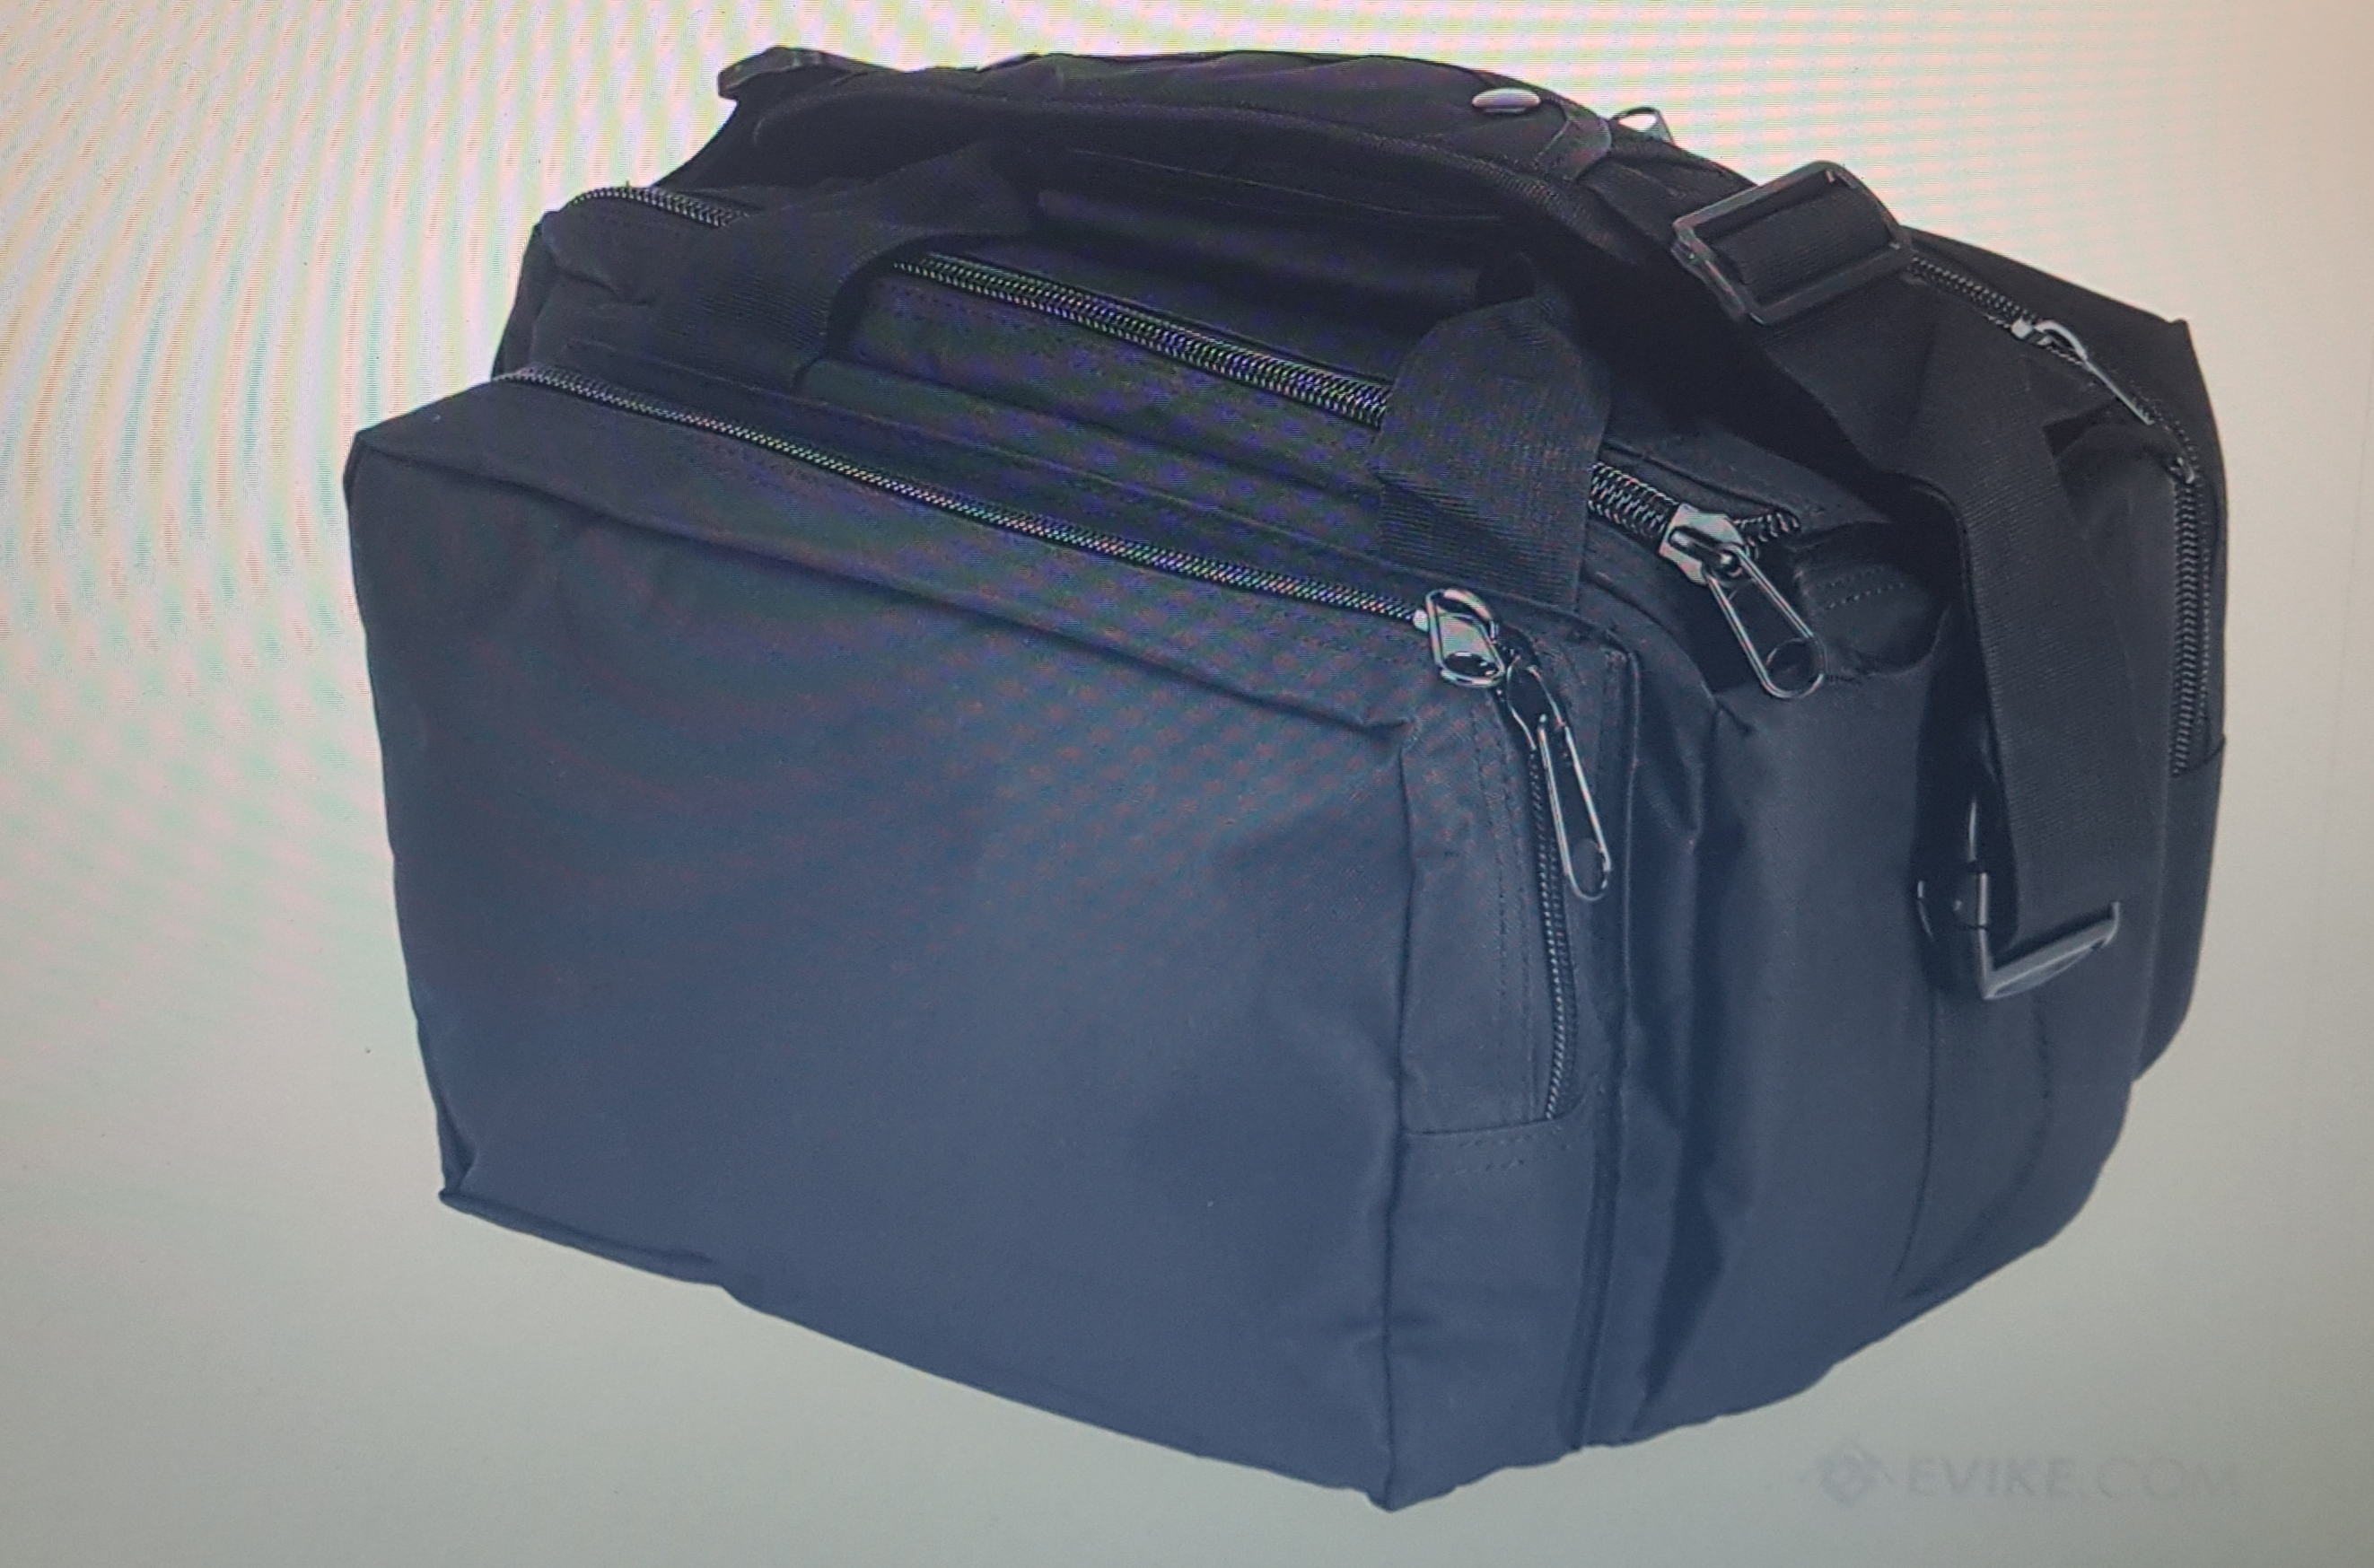Black: (327, 40, 2243, 1528)
